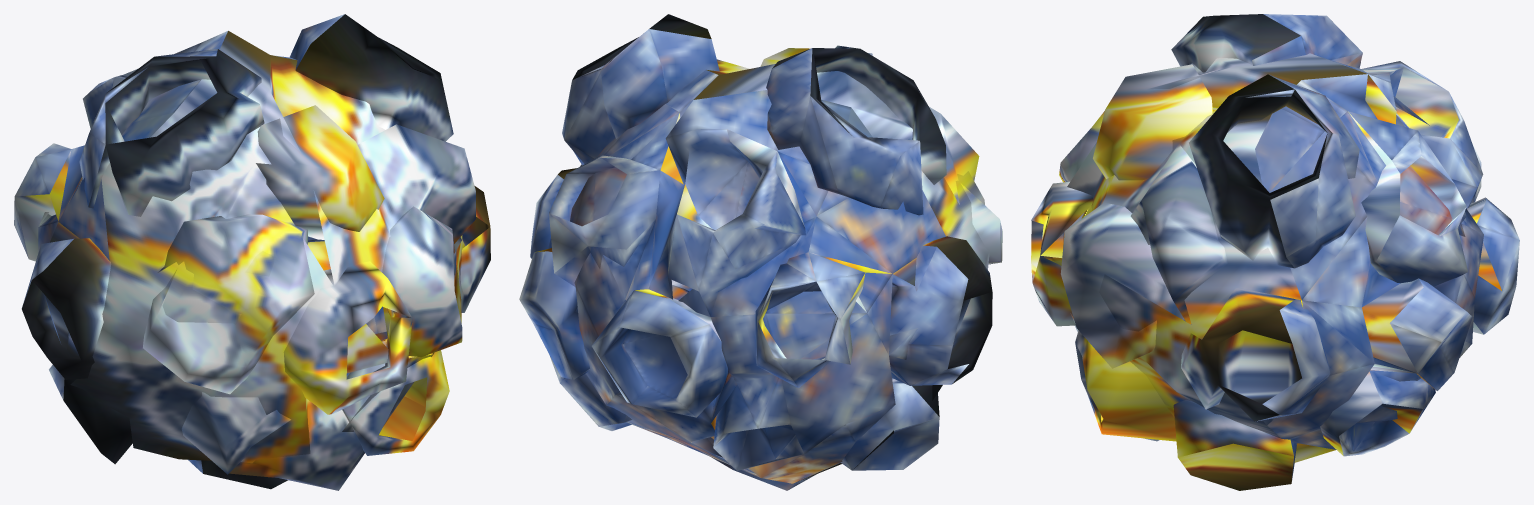
File: loot_gold.glb
3 renders of one model, left to right at view 1: azimuth 30°, elevation 25°; view 2: azimuth 150°, elevation 25°; view 3: azimuth 270°, elevation 25°, orthographic.
Visible parts, largest first — view 1: geometry_0; view 2: geometry_0; view 3: geometry_0.
Part boxes in pixels (left/top/right/bottom): geometry_0: left=14, top=14, right=490, bottom=490; geometry_0: left=519, top=14, right=1002, bottom=490; geometry_0: left=1031, top=14, right=1519, bottom=490.
Bounding box in the file's own units: 1 × 0.9444 × 1.
Materials: 1 (1 with a texture image).
